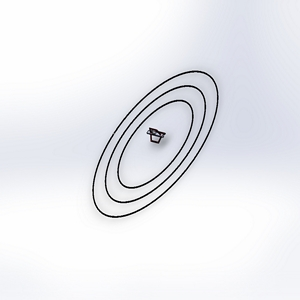circle: (87, 66, 226, 224)
submarine: (140, 123, 172, 152)
